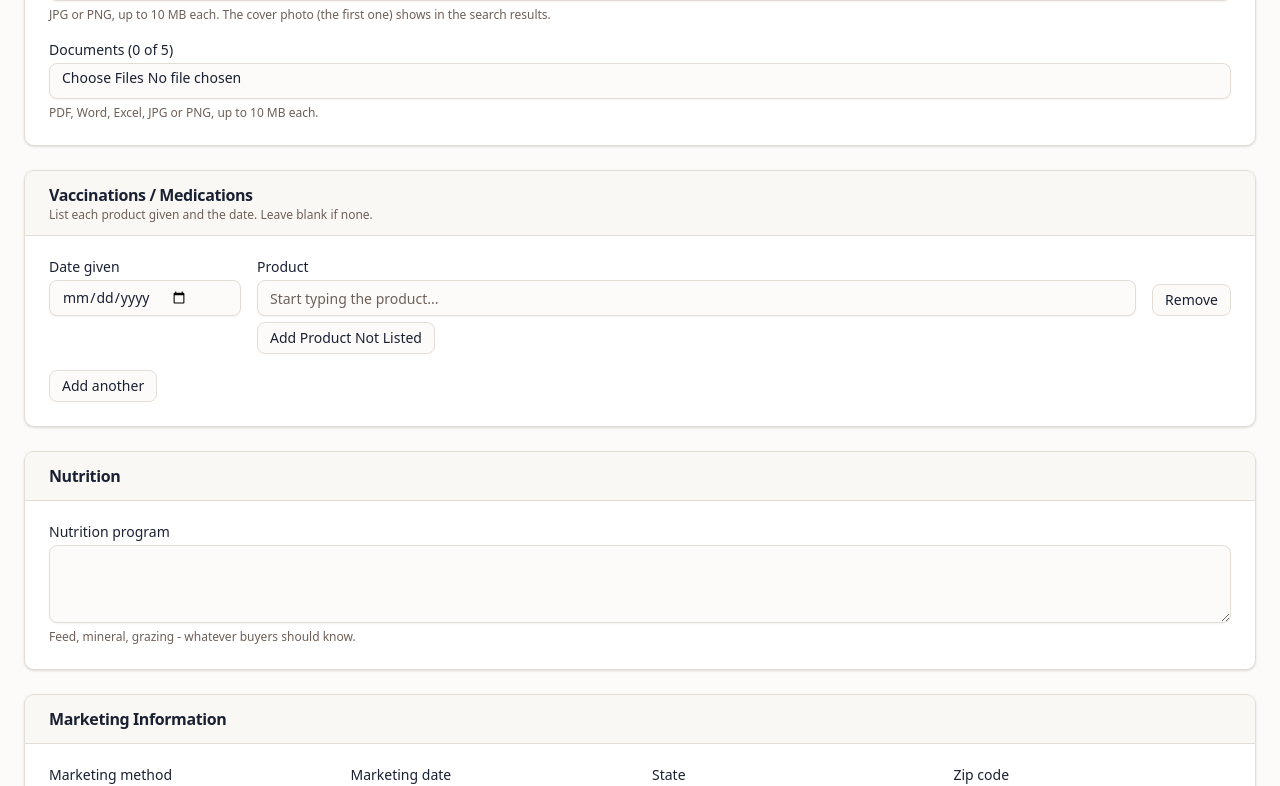
Scenario: feeder listing form › adds and removes vaccination rows
The width and height of the screenshot is (1280, 786).
(page scrolled)
Expected: the heading "Vaccinations / Medications" is shown, [49,184,253,206]
Expected: the number of fields labelled "Product" is 1, [257,280,1136,316]
Click the button "Add another" at (103, 386), box [49,370,157,402]
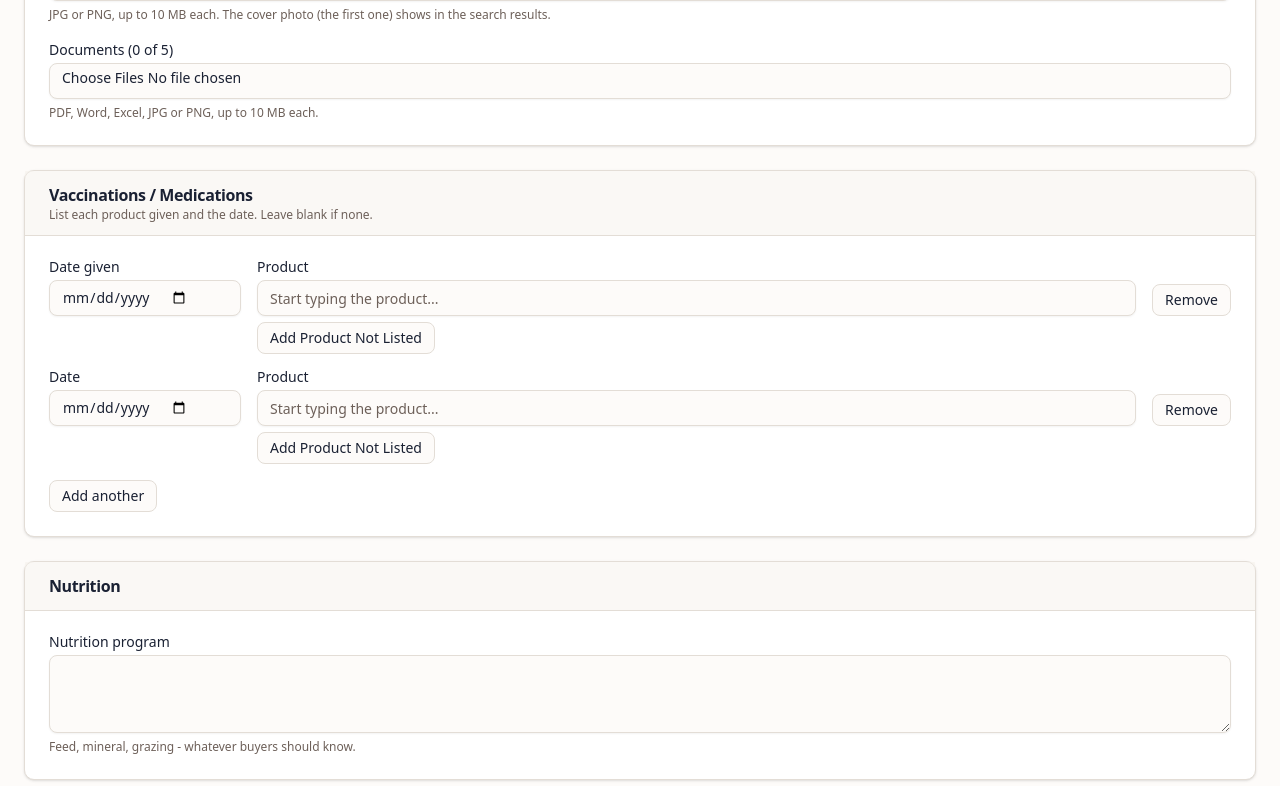
Now the number of fields labelled "Product" is 2, box [257,280,1136,316]; [257,390,1136,426]
Click the button with aria-label "Remove vaccination row 2" at (1192, 410), box [1152,394,1231,426]
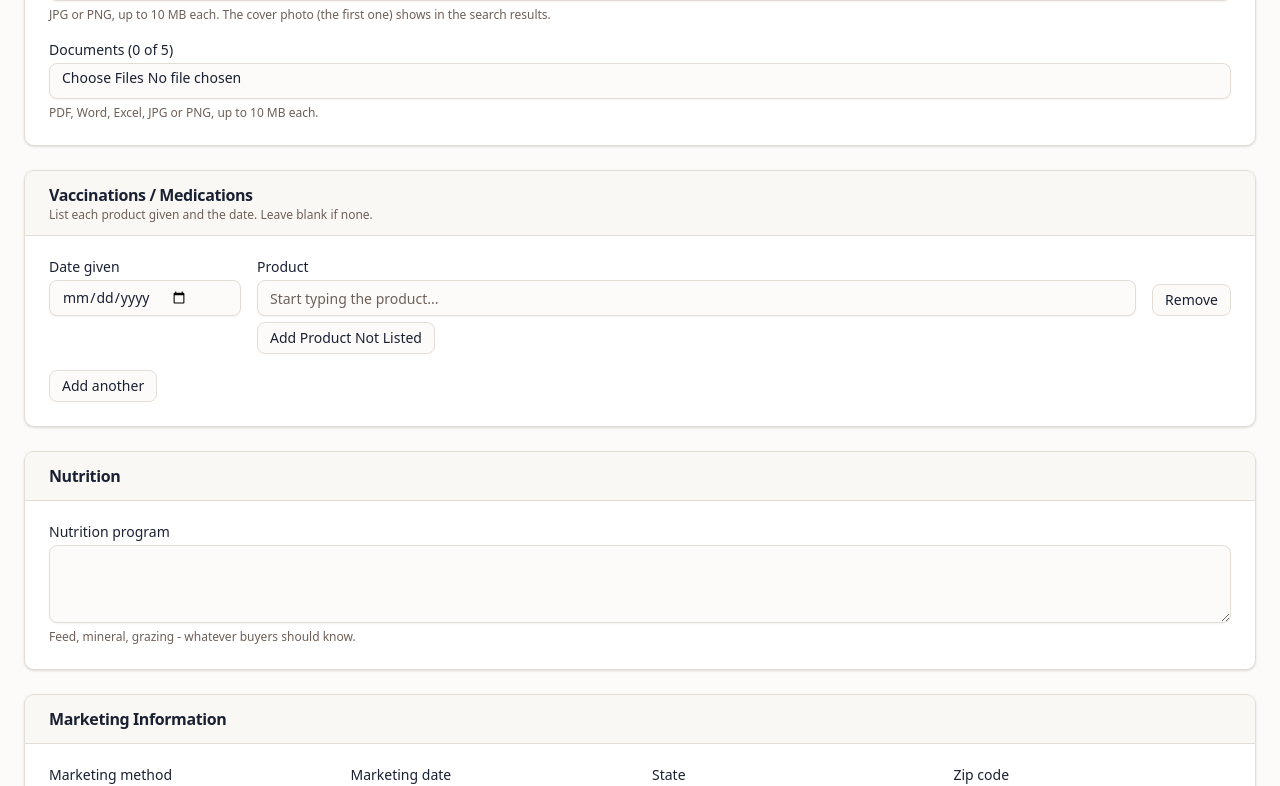
Now the number of fields labelled "Product" is 1, box [257,280,1136,316]
